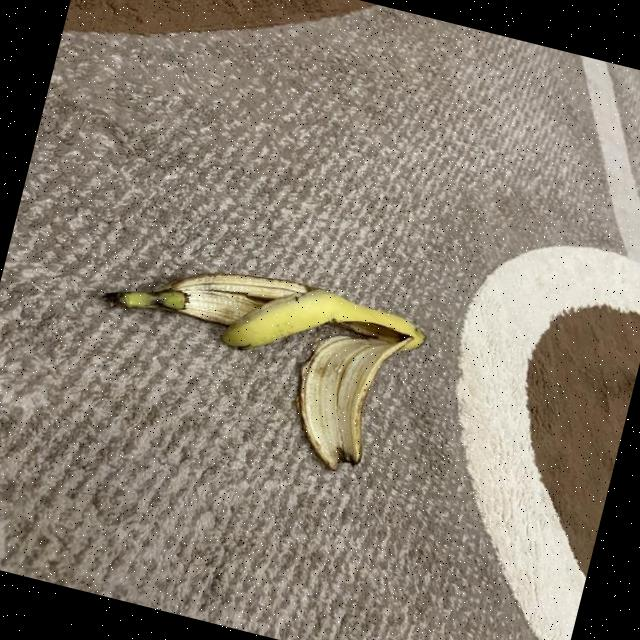banana-peel: (74, 234, 432, 483), (217, 266, 431, 393), (98, 235, 310, 350)
